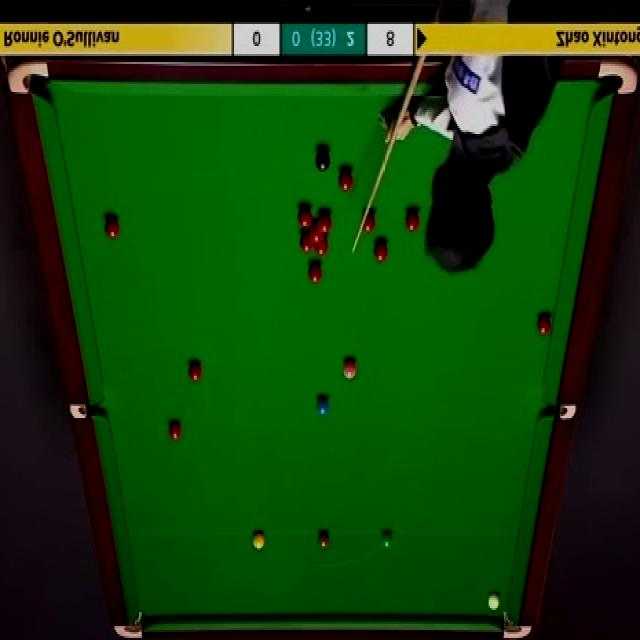pocket: (600, 56, 638, 101), (10, 55, 50, 97), (113, 608, 143, 640), (502, 609, 531, 640), (69, 402, 106, 420), (541, 402, 575, 420)
